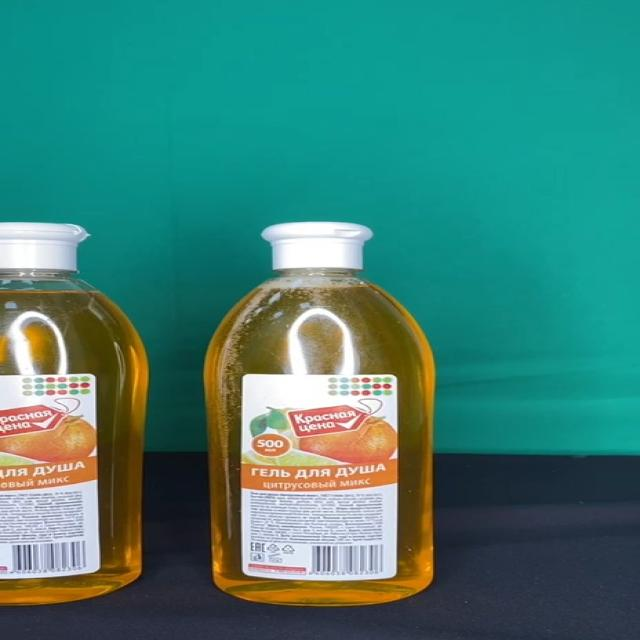Bottle: (202, 220, 439, 608)
Cap: (261, 222, 374, 269)
